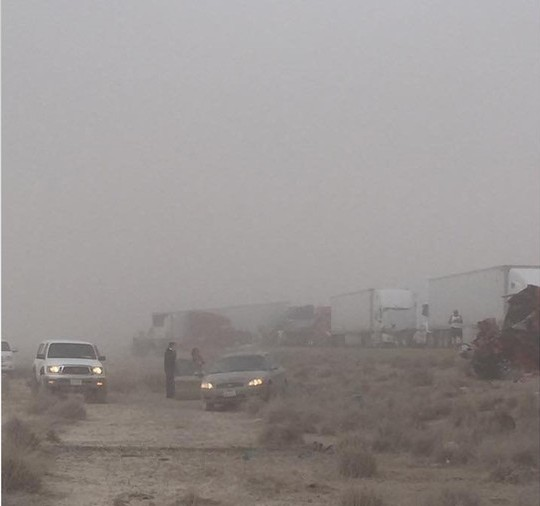car: (197, 354, 287, 412), (2, 337, 19, 380)
person: (162, 341, 177, 397), (450, 307, 463, 352)
truck: (421, 272, 538, 354), (328, 286, 426, 344), (31, 337, 108, 401)
